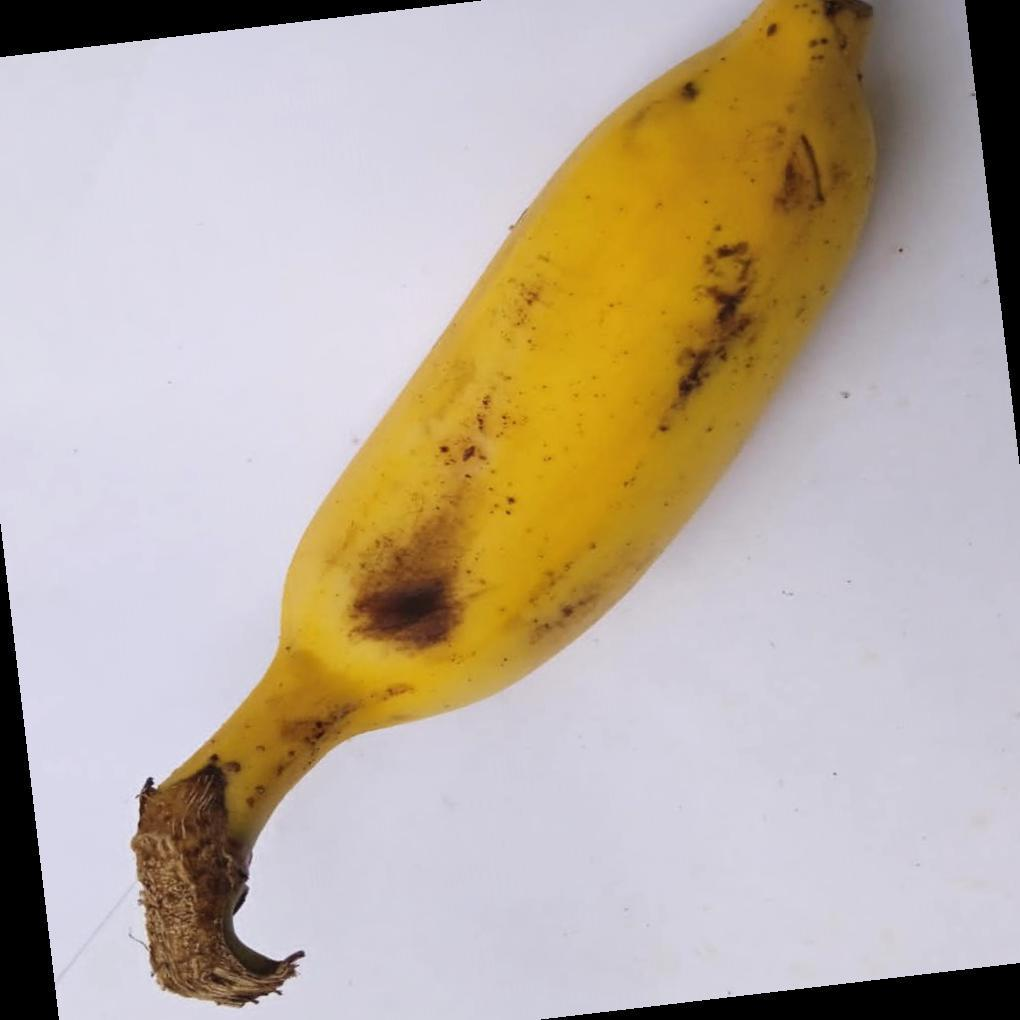Banana Ripe: (136, 0, 961, 971)
